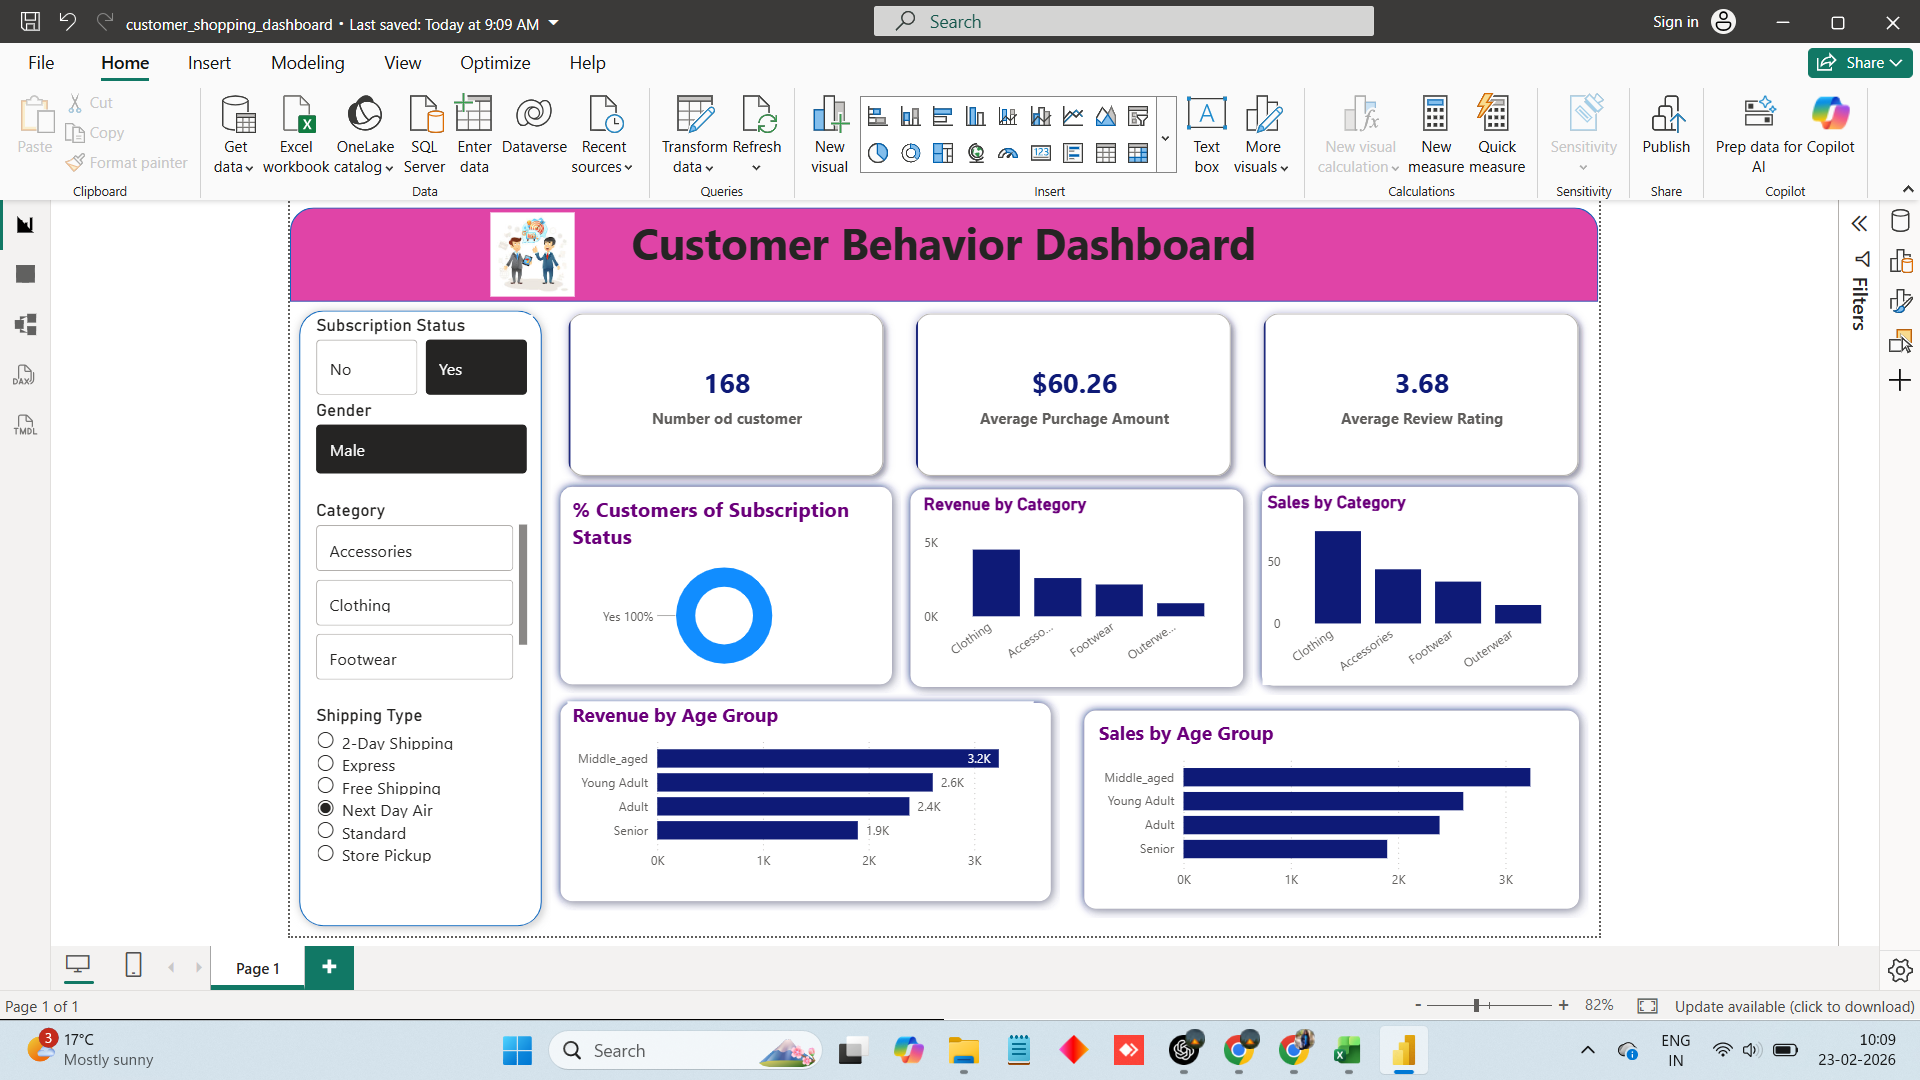

This screenshot's page, from the dashboard's own definition file:
{"tool":"powerbi","page":{"name":"Page 1","canvas":[1280,720],"ordinal":0},"visuals":[{"type":"cardVisual","fields":{"Data":["customer_shopping customer.Number od customer","customer_shopping customer.Average Purchage Amount","customer_shopping customer.Average Review Rating"]},"box":[255.6,94.2,1024.7,193.2],"z":0},{"type":"shape","box":[255.6,271.5,342.4,211.6],"z":1000},{"type":"shape","box":[0,7.2,1279.7,92.3],"z":2000},{"type":"textbox","box":[10.1,7.2,1259.5,69.3],"z":3000},{"type":"donutChart","title":"% Customers of Subscription Status","fields":{"Category":["customer_shopping customer.subscription_status"],"Y":["CountNonNull(customer_shopping customer.customer_id)"]},"box":[271.5,288.6,306.9,183.4],"z":4000},{"type":"shape","box":[598,273.9,343.6,211.6],"z":5000},{"type":"shape","box":[941.6,271.5,327.7,212.8],"z":6000},{"type":"clusteredColumnChart","title":"Revenue by Category","fields":{"Category":["customer_shopping customer.category"],"Y":["Sum(customer_shopping customer.purchase_amount)"]},"box":[615.1,287.4,310.6,176.1],"z":7000},{"type":"clusteredColumnChart","title":"Sales by Category","fields":{"Category":["customer_shopping customer.category"],"Y":["CountNonNull(customer_shopping customer.customer_id)"]},"box":[951.4,284.9,303.3,189.5],"z":8000},{"type":"shape","box":[0,99.6,255.4,620.4],"z":9000},{"type":"advancedSlicerVisual","fields":{"Values":["customer_shopping customer.subscription_status"]},"box":[20.2,112.5,216.4,83.7],"z":10000},{"type":"advancedSlicerVisual","fields":{"Values":["customer_shopping customer.gender"]},"box":[20.2,196.2,216.4,77.9],"z":11000},{"type":"advancedSlicerVisual","fields":{"Values":["customer_shopping customer.category"]},"box":[20.2,292.9,216.4,180.3],"z":12000},{"type":"shape","box":[255.4,483.3,497.8,212.1],"z":12500},{"type":"clusteredBarChart","title":"Revenue by Age Group","fields":{"Category":["customer_shopping customer.age_group"],"Y":["Sum(customer_shopping customer.purchase_amount)"]},"box":[271.2,490.5,455.9,174.6],"z":13000},{"type":"listSlicer","fields":{"Values":["customer_shopping customer.shipping_type"]},"box":[20.2,493.4,216.4,209.2],"z":14000},{"type":"shape","box":[767.5,490.5,502.1,212.1],"z":15001},{"type":"clusteredBarChart","title":"Sales by Age Group","fields":{"Category":["customer_shopping customer.age_group"],"Y":["Sum(customer_shopping customer.purchase_amount)"]},"box":[786.3,509.3,467.5,174.6],"z":15002},{"type":"image","box":[173.1,7.2,127,92.3],"z":15003}]}

Visuals, with their boxes on the page's 1280x720 design canvas (x1, y1, x2, y2). These are canvas units, not pixel positions in the 1920x1080 screenshot, which may show the page scaled, cropped or inside an application window:
cardVisual - customer_shopping customer.Number od customer x customer_shopping customer.Average Purchage Amount: (256, 94, 1280, 287)
shape: (256, 272, 598, 483)
shape: (0, 7, 1280, 100)
textbox: (10, 7, 1270, 76)
"% Customers of Subscription Status" donutChart: (272, 289, 578, 472)
shape: (598, 274, 942, 486)
shape: (942, 272, 1269, 484)
"Revenue by Category" clusteredColumnChart: (615, 287, 926, 464)
"Sales by Category" clusteredColumnChart: (951, 285, 1255, 474)
shape: (0, 100, 255, 720)
advancedSlicerVisual - customer_shopping customer.subscription_status: (20, 112, 237, 196)
advancedSlicerVisual - customer_shopping customer.gender: (20, 196, 237, 274)
advancedSlicerVisual - customer_shopping customer.category: (20, 293, 237, 473)
shape: (255, 483, 753, 695)
"Revenue by Age Group" clusteredBarChart: (271, 490, 727, 665)
listSlicer - customer_shopping customer.shipping_type: (20, 493, 237, 703)
shape: (768, 490, 1270, 703)
"Sales by Age Group" clusteredBarChart: (786, 509, 1254, 684)
image: (173, 7, 300, 100)
